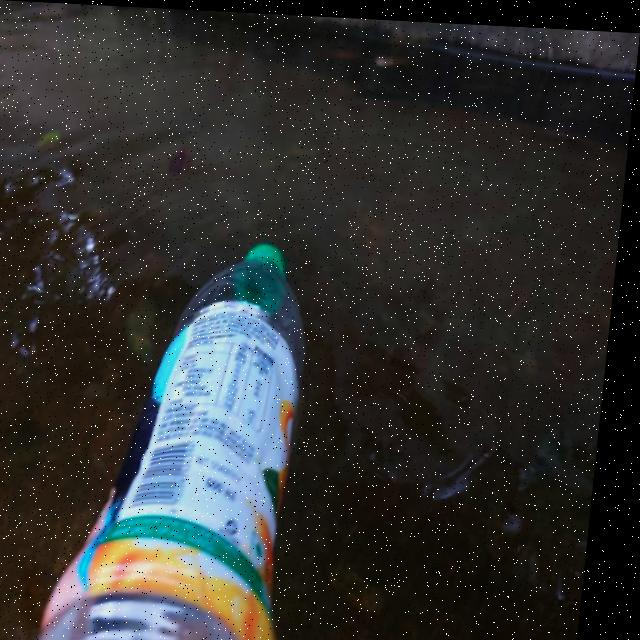waterbottle: (49, 214, 355, 640)
